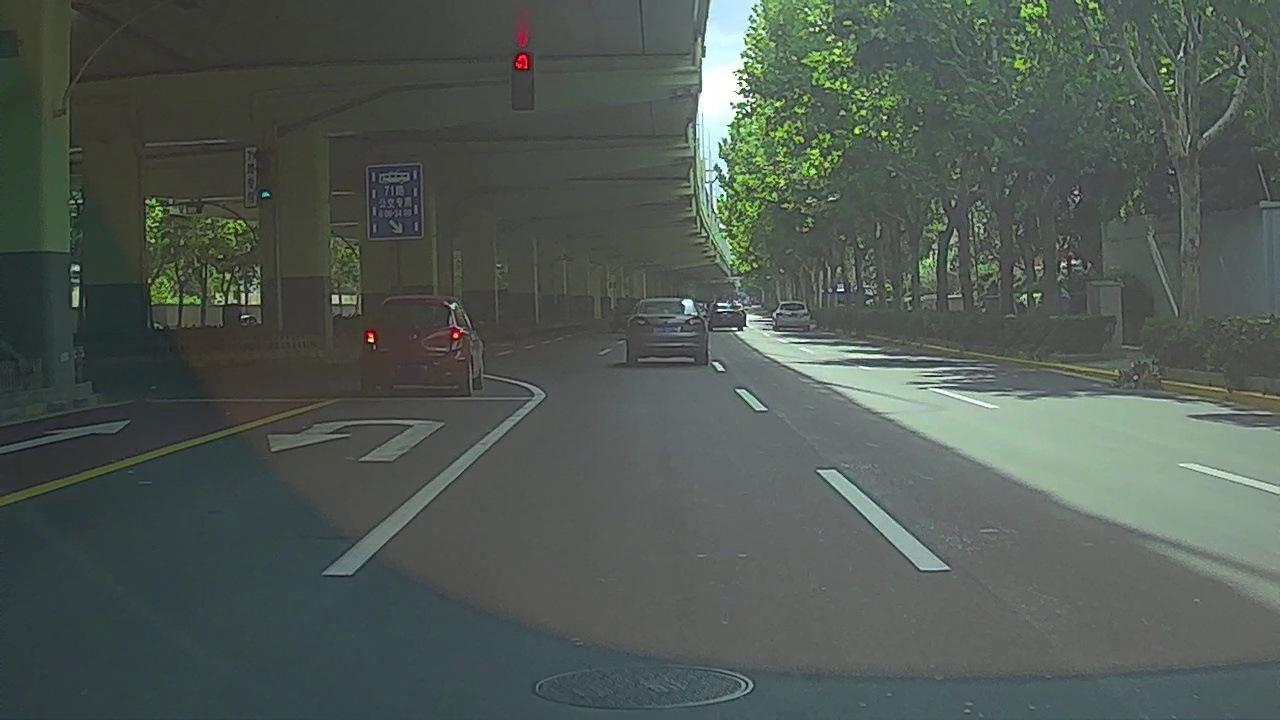traffic_light: (514, 53, 536, 109)
